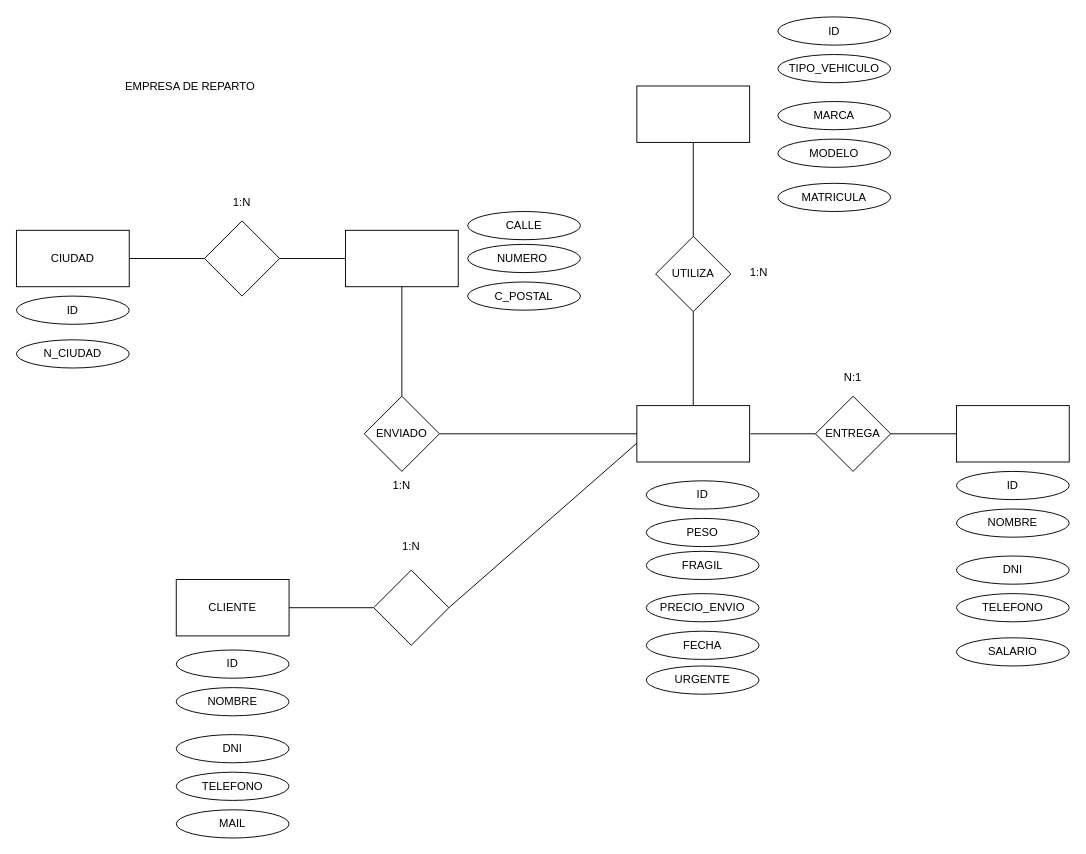
This 1086x854 diagram has some shape labels left out. The centre of each missing label's shape, as x and y in pixels:
"DIRECCION" belongs at (401,258).
"PEDIDO" belongs at (693,433).
"PERTENECE" belongs at (242,258).
"RECIBE" belongs at (411,607).
"REPARTIDOR" belongs at (1012,433).
"VEHICULO" belongs at (693,113).
